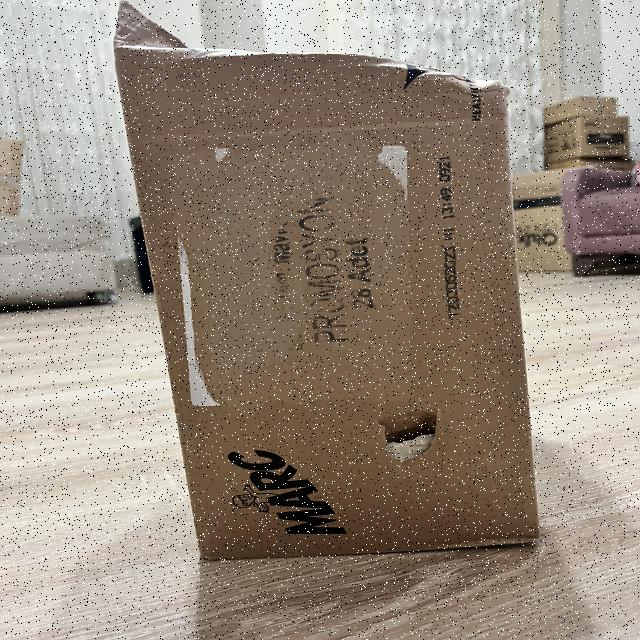damaged: (106, 29, 551, 572), (385, 49, 515, 117), (360, 400, 454, 476), (108, 0, 207, 61)
